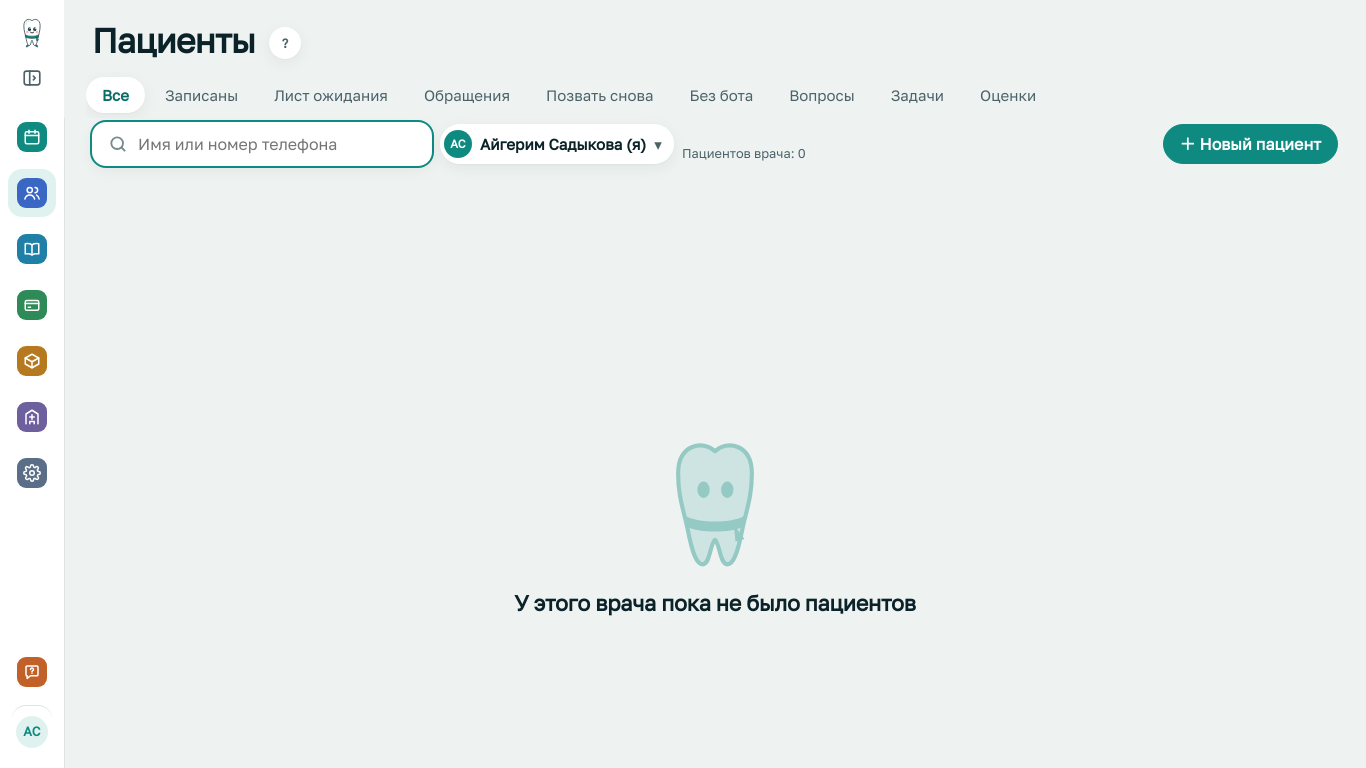
Scenario: «Позвать снова»: отправили план с ценами, а пациент не записался — строка статуса и фильтр
Expected: the navigation bar named "Разделы" is shown, [8,113,56,497]
Click the link "Позвать снова" at [600, 95], box [546,86,653,104]
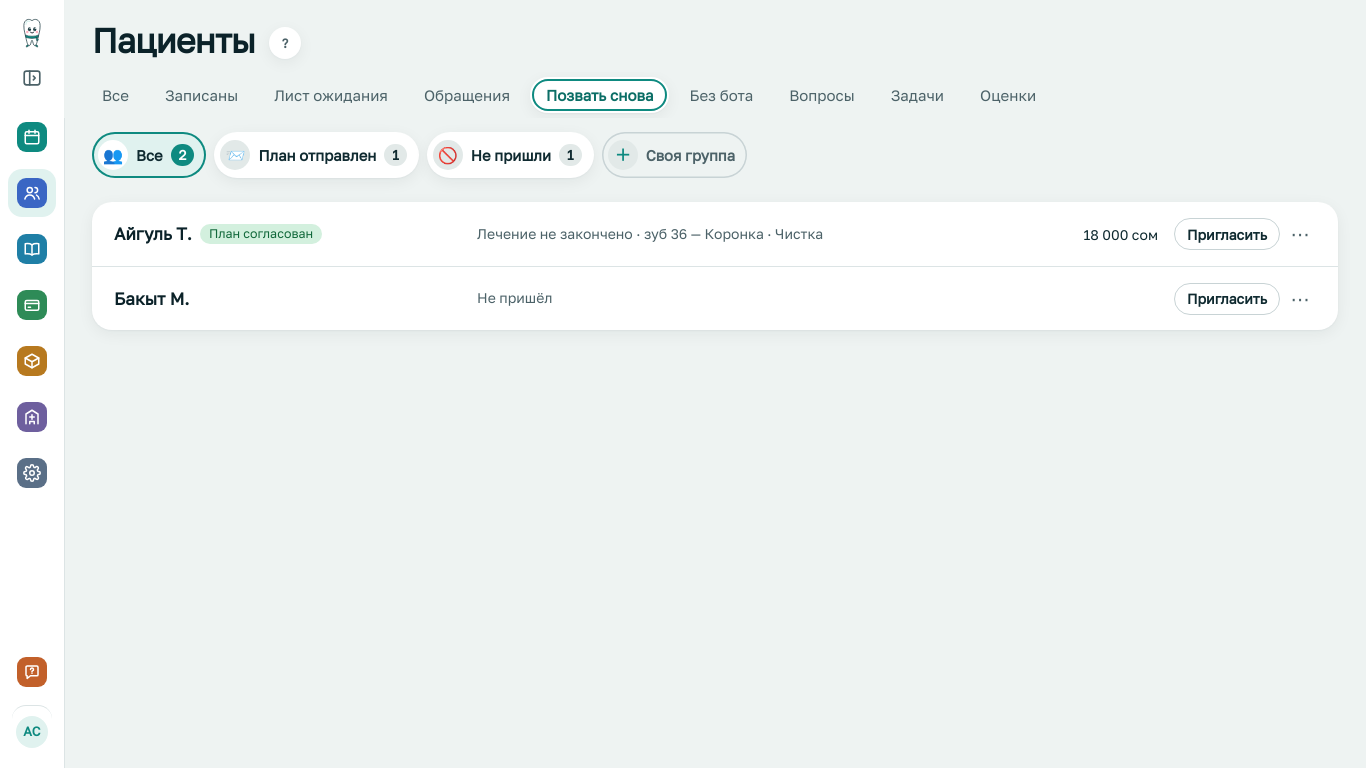
Now the text "План согласован" is shown, box [200,224,322,244]
Click the button named "Ещё: Айгуль Т." at [1300, 234], box [1284,218,1316,250]
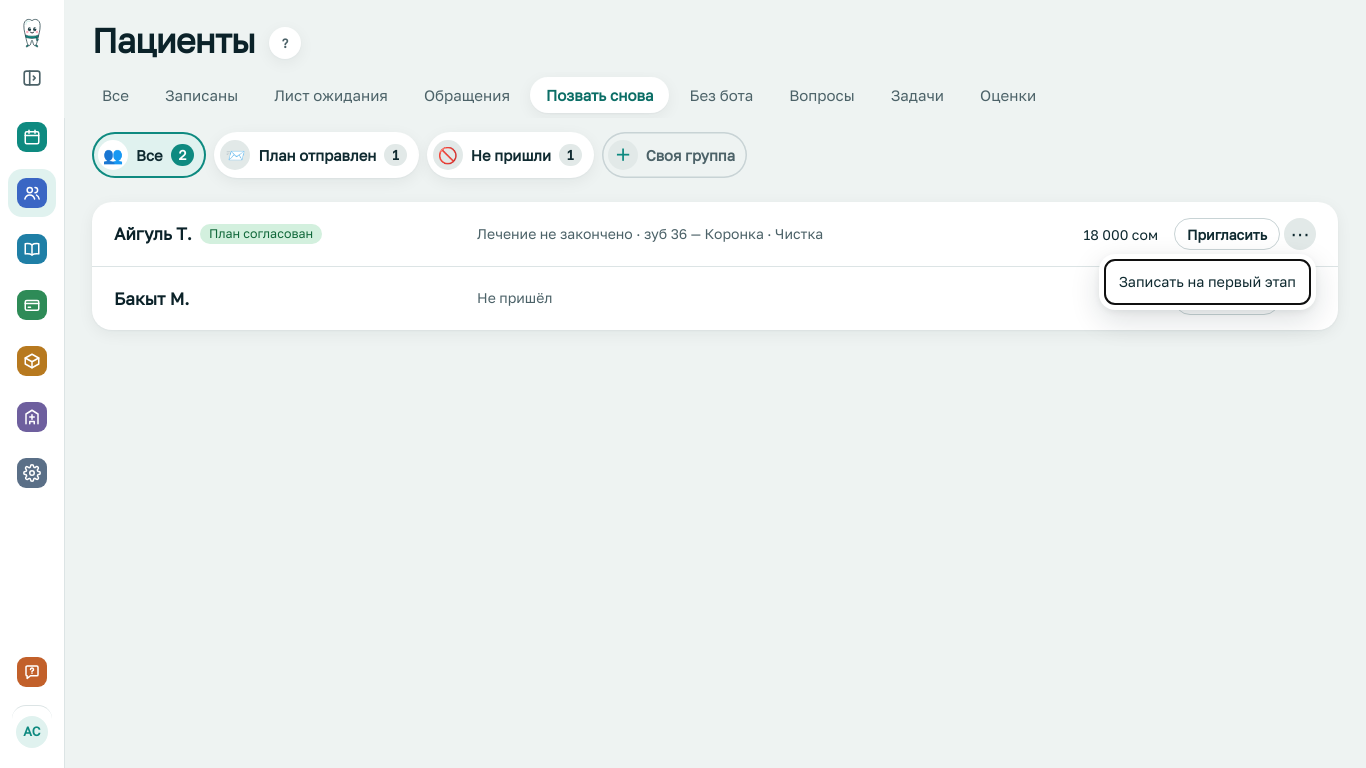
Now the menu item "Записать на первый этап" is shown, box [1105,260,1310,304]
Press Escape
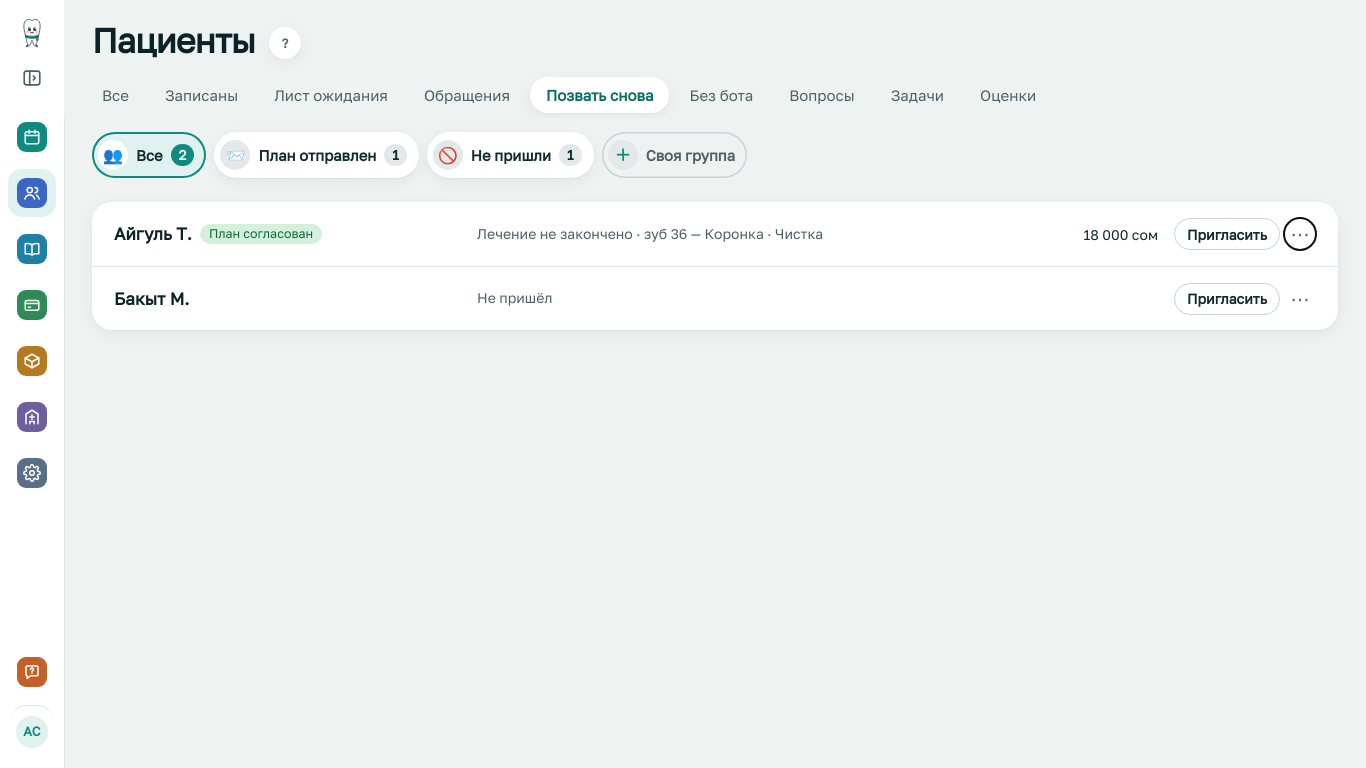
Now the button "📨 План отправлен 1" is shown
Click the button "📨 План отправлен 1" at [317, 155], box [214,132,419,178]
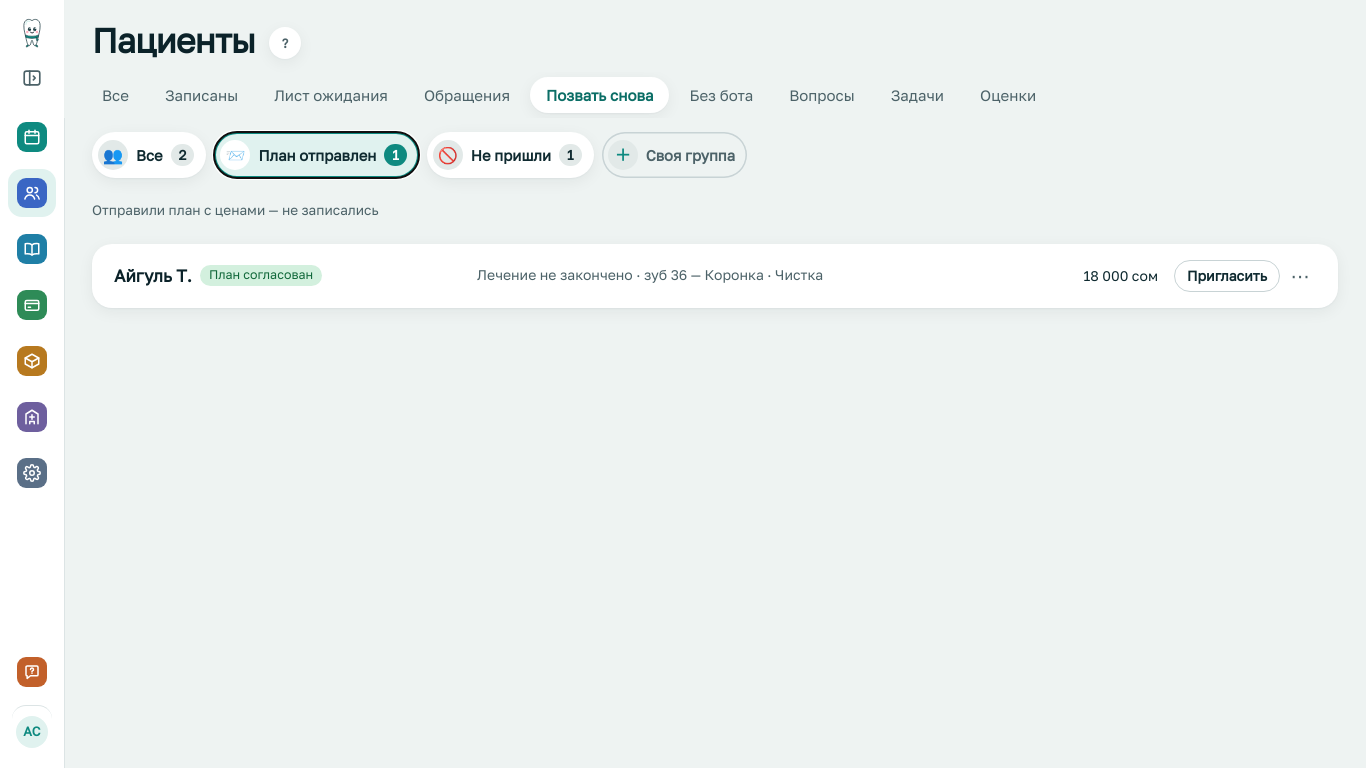
Now the number of list items is 1, box [1084,260,1316,292]
